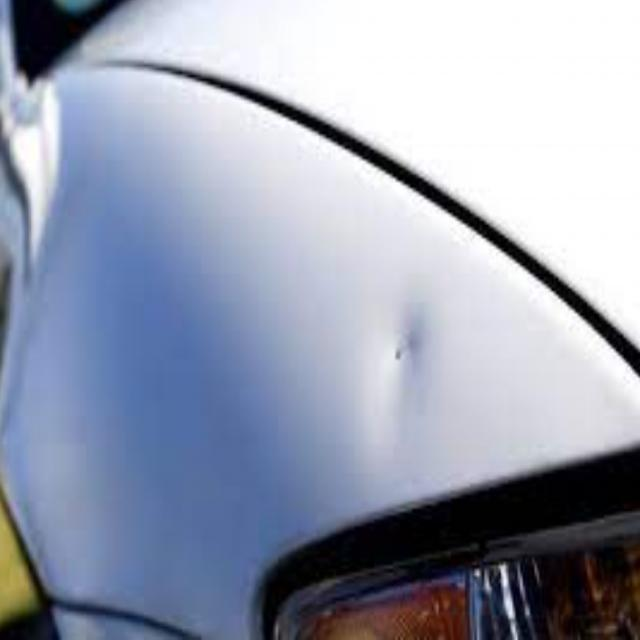dents: (369, 259, 476, 452)
